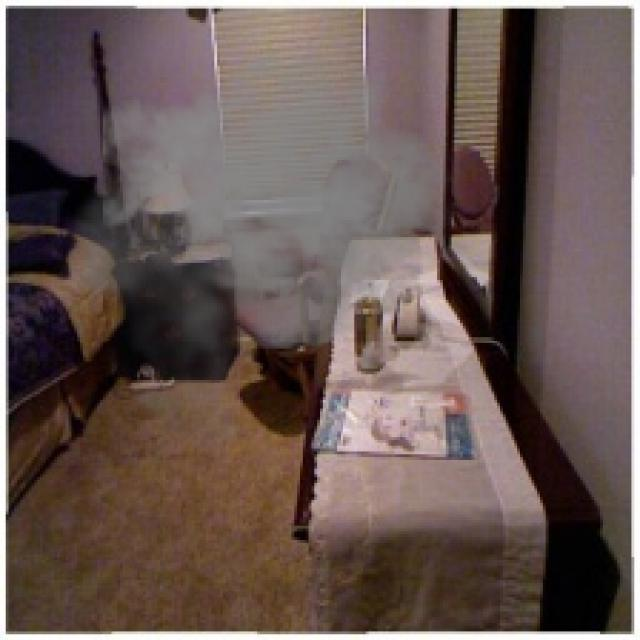Smoke: (51, 40, 468, 460)
